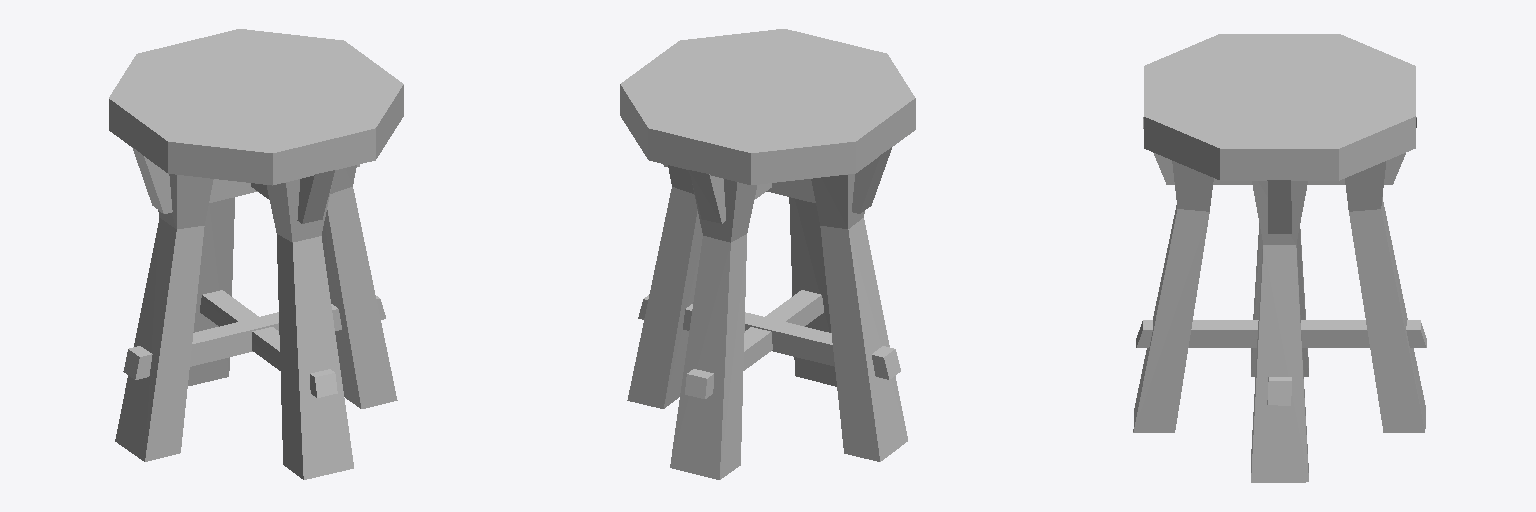
Rendered from Stool.obj.
3 views of the same model, side by side, from view 1: azimuth 30°, elevation 25°; view 2: azimuth 150°, elevation 25°; view 3: azimuth 270°, elevation 25° (orthographic).
Visible parts, largest first — view 1: Stool_Cube.097; view 2: Stool_Cube.097; view 3: Stool_Cube.097.
Part boxes in pixels (x1,y1,x2,y2): Stool_Cube.097: (109, 29, 403, 479); Stool_Cube.097: (620, 29, 915, 479); Stool_Cube.097: (1133, 34, 1426, 482).
Bounding box in the file's own units: 0.4746 × 0.5887 × 0.4746.